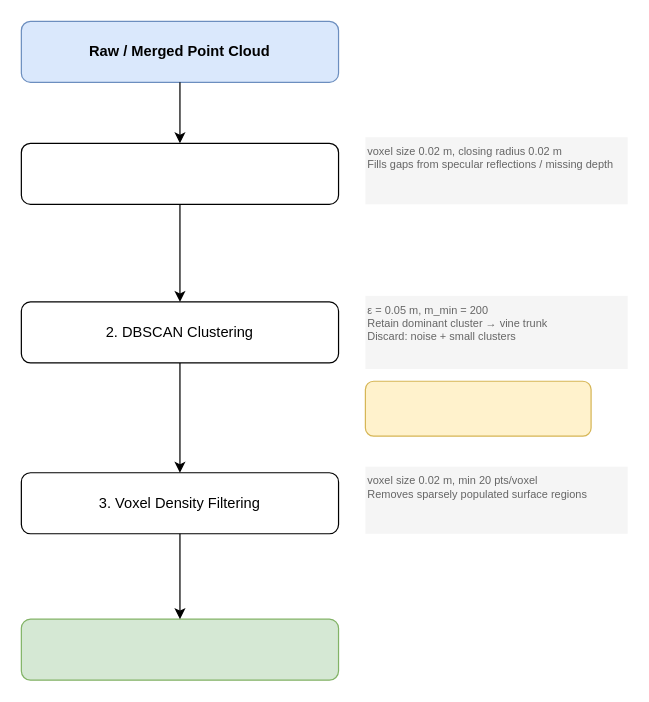
The diagram is 649 pixels wide and 702 high, and some of its shapes have lost their labels. Here are the shapes that lost their labels. From the top down, the centre of each, then its label:
At point 179,173: "1. Morphological Closing".
At point 477,408: "Dominant cluster = vine trunk; noise points discarded".
At point 179,649: "Trunk Point Cloud → ICP".
